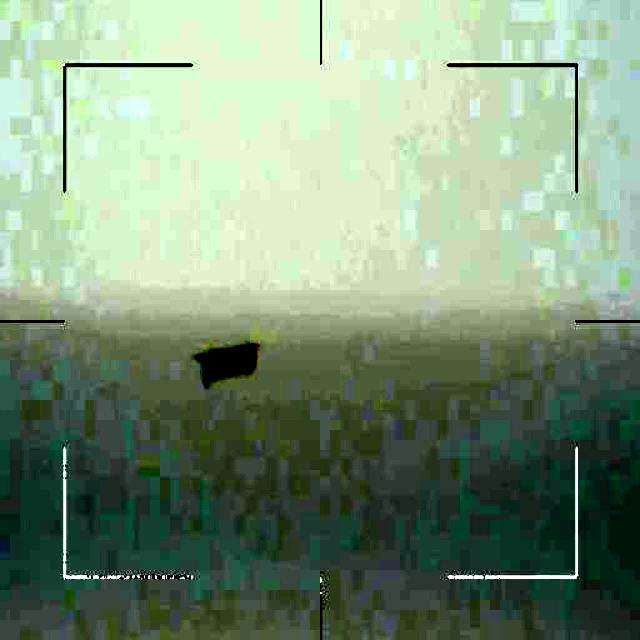bird: (194, 339, 260, 389)
